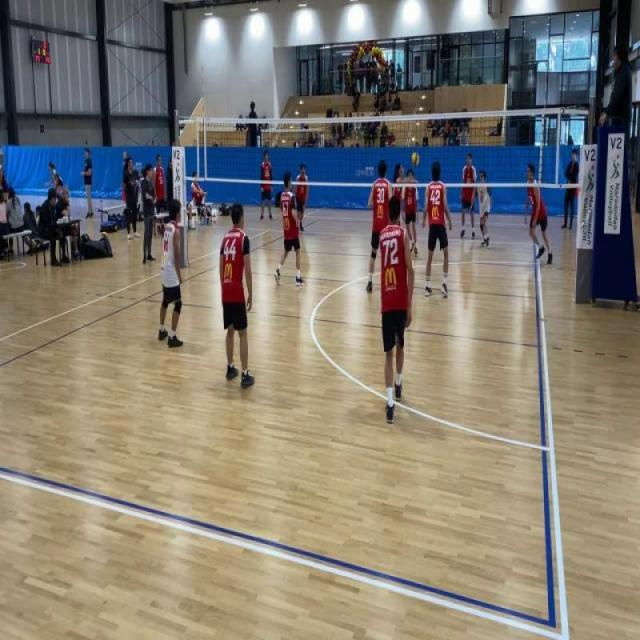volleyball: (412, 151, 419, 167), (100, 231, 108, 239)
